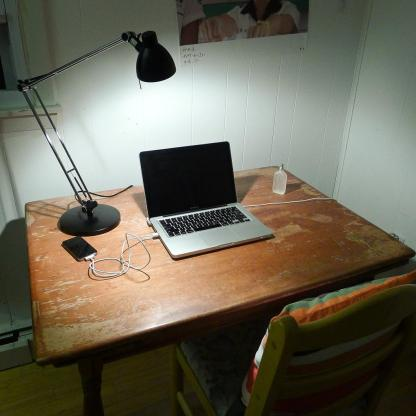board: (137, 140, 272, 259), (272, 163, 288, 195)
